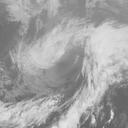cyclone: (23, 39, 101, 96)
